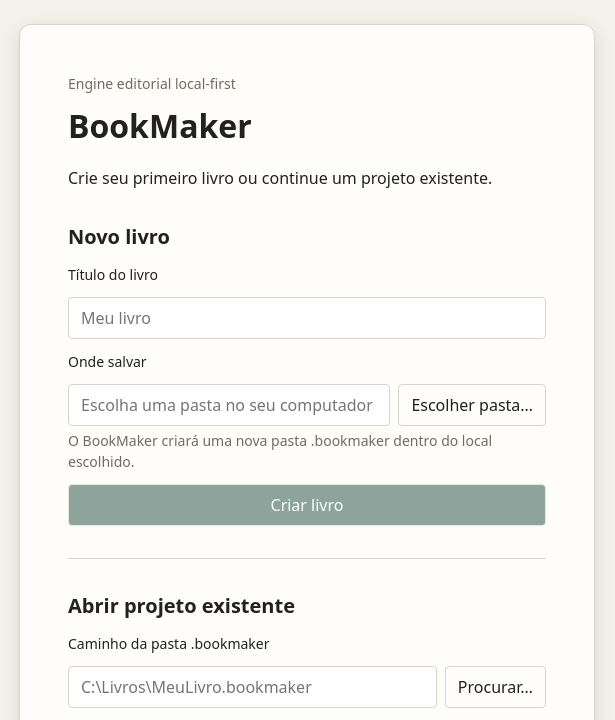
Scenario: App › keeps the launcher open and explains project opening failures
The image size is (615, 720).
Type "C:/Livros/Inexistente.bookmaker" into the field labelled "Caminho da pasta .bookmaker".
click(252, 687); type("C:/Livros/Inexistente.bookmaker")  # box top-left (68, 666), bottom-right (437, 708)
(page scrolled)
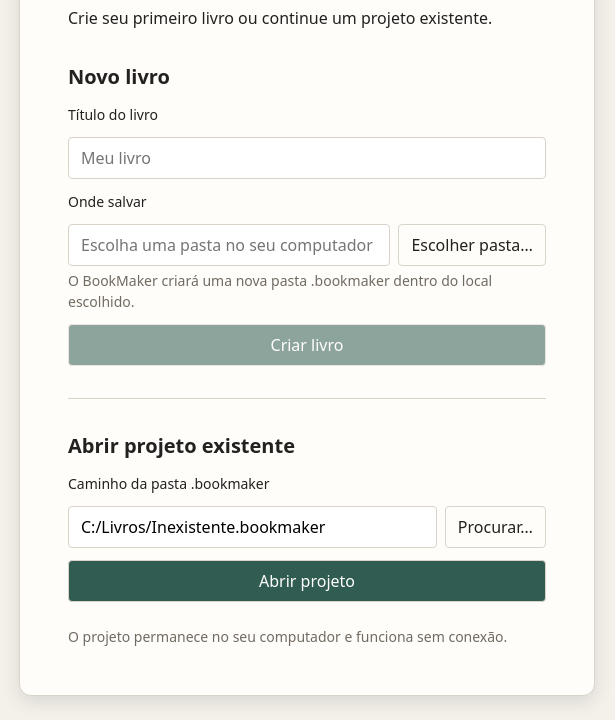
Click the button "Abrir projeto".
click(307, 581)  # box top-left (68, 560), bottom-right (546, 602)
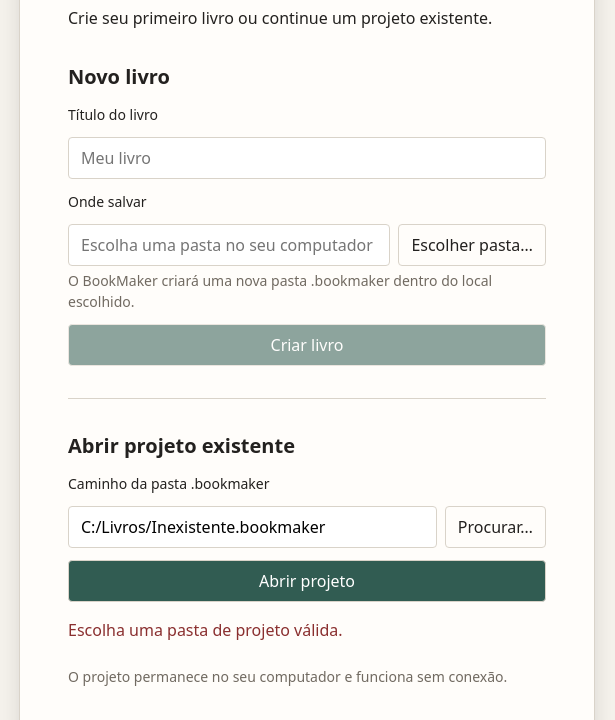
Expected: the button "Abrir projeto" is enabled, top-left (68, 560), bottom-right (546, 602)
Expected: the message reads "Escolha uma pasta de projeto válida.", top-left (68, 619), bottom-right (342, 641)
